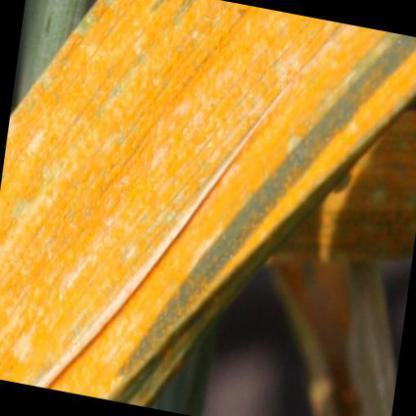Wheat-Yellow-rust: (95, 8, 189, 230), (19, 99, 90, 386), (236, 11, 290, 197), (95, 236, 145, 386), (199, 4, 227, 229), (370, 139, 415, 251), (331, 35, 396, 102), (299, 21, 329, 142), (156, 241, 187, 308), (3, 164, 13, 370), (288, 254, 340, 292), (338, 178, 362, 241), (48, 57, 90, 93), (299, 147, 330, 179), (196, 237, 228, 268), (236, 218, 269, 247), (335, 358, 351, 411), (338, 108, 379, 126), (303, 216, 332, 240), (318, 325, 346, 348), (337, 134, 358, 160), (309, 301, 340, 317), (70, 38, 90, 51), (394, 121, 412, 132), (296, 189, 314, 200), (280, 201, 294, 215)
